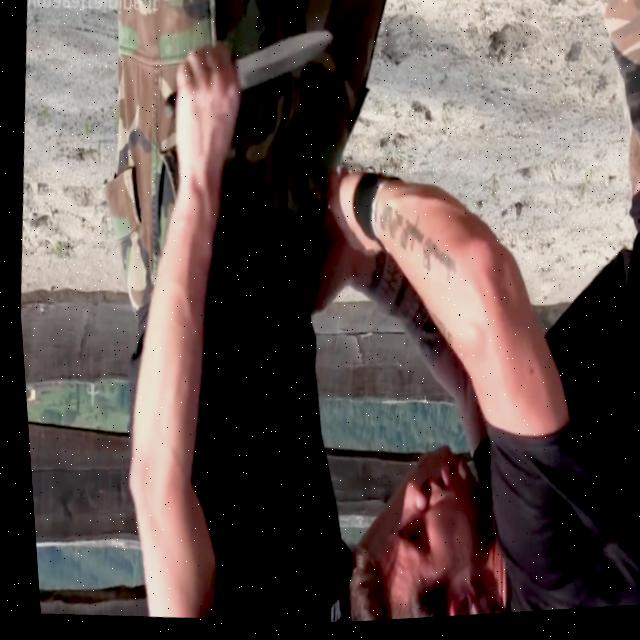knife: (232, 27, 335, 102)
